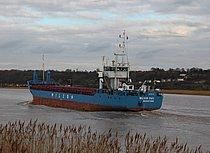Ship: (22, 29, 168, 117)
